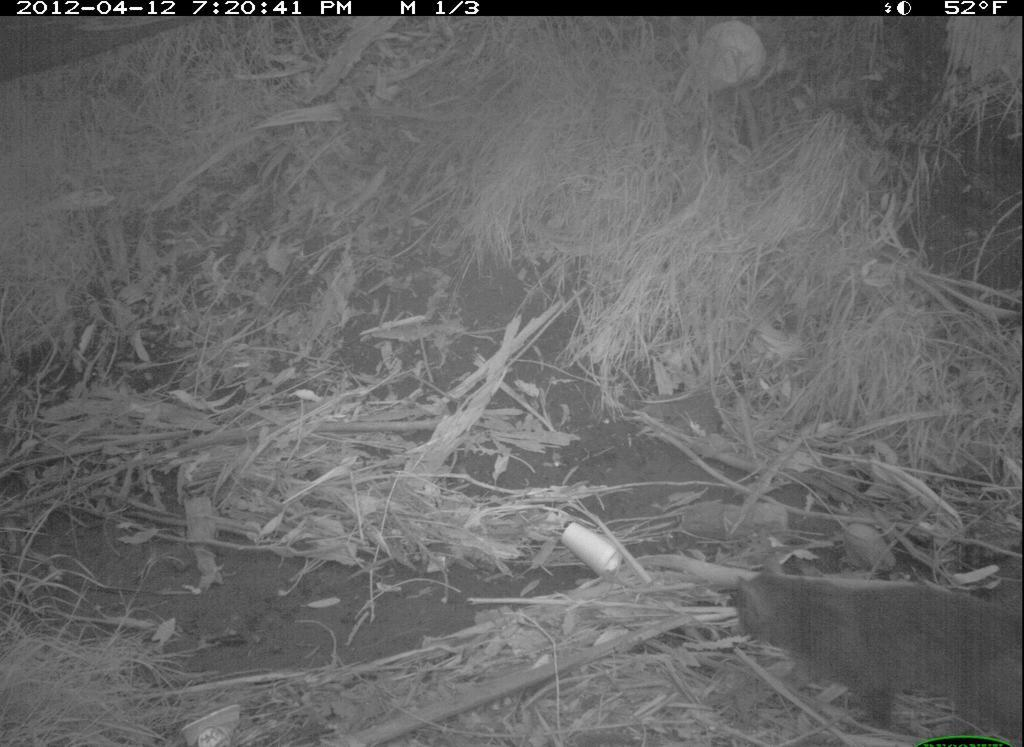cat: (713, 537, 1019, 747)
